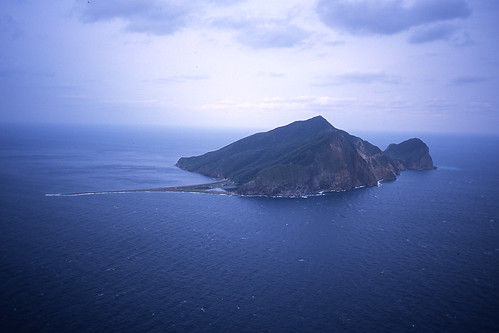turtleIslandTop: (184, 108, 443, 203)
